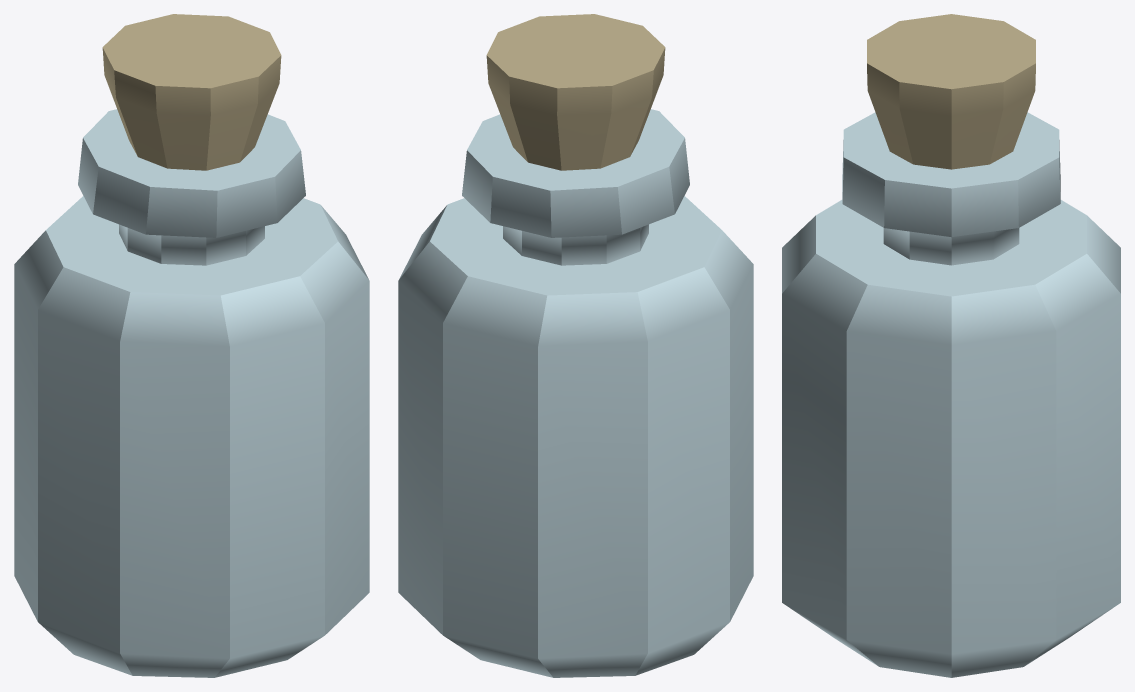
The model's file is bottle_mblue.fbx.
3 views of the same model, side by side, from view 1: azimuth 30°, elevation 25°; view 2: azimuth 150°, elevation 25°; view 3: azimuth 270°, elevation 25° (orthographic).
Parts seen in each view (by area): view 1: outer_bottle, cork; view 2: outer_bottle, cork; view 3: outer_bottle, cork.
Boxes of the visible parts, box(x1,y1,x2,y2) form: outer_bottle: box(14, 109, 369, 677); cork: box(102, 14, 281, 170); outer_bottle: box(398, 109, 753, 677); cork: box(486, 14, 665, 170); outer_bottle: box(782, 112, 1120, 677); cork: box(867, 14, 1035, 169).
Size of the model in its own units: 0.7013 by 1.25 by 0.674.
